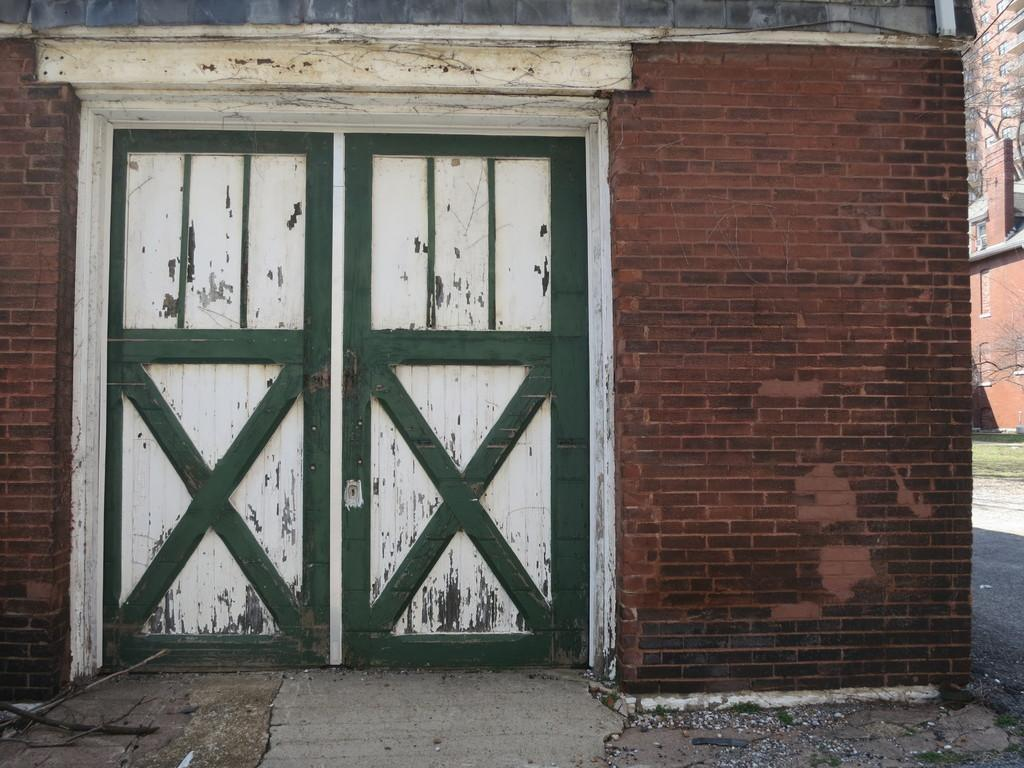door: (350, 138, 586, 668), (114, 136, 328, 664)
